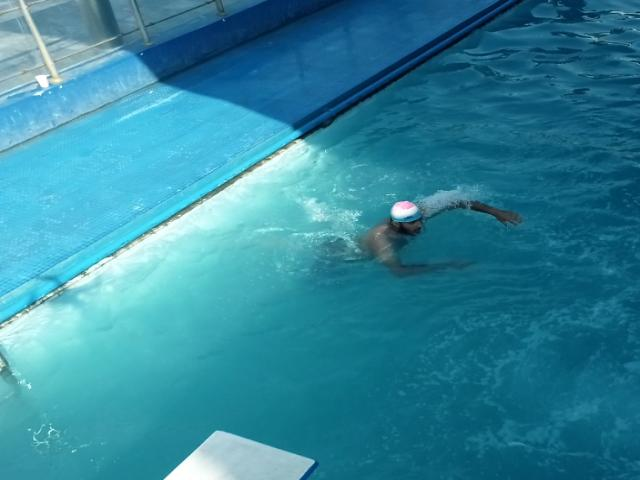swimming: (327, 198, 521, 278)
